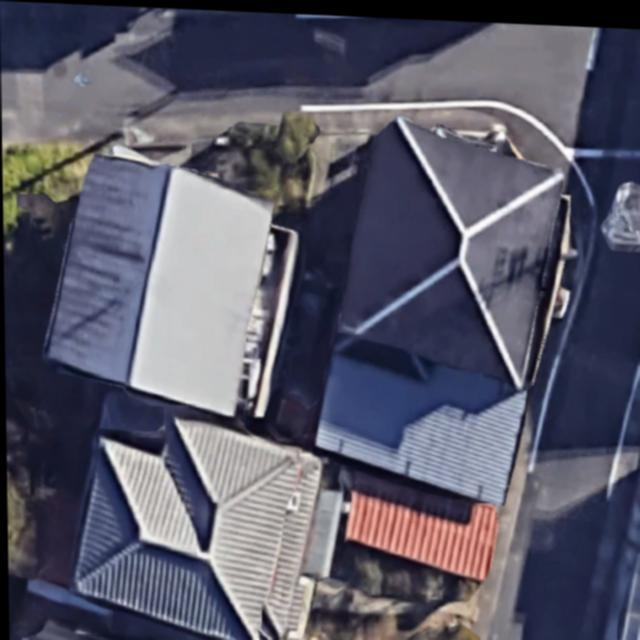Batiment: (71, 388, 340, 640), (43, 146, 272, 413), (337, 113, 562, 383), (315, 330, 525, 499)
